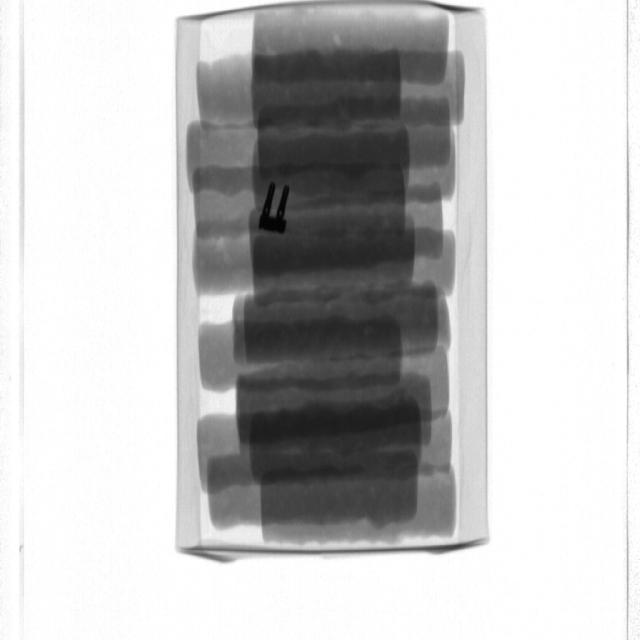ym: (259, 181, 291, 229)
